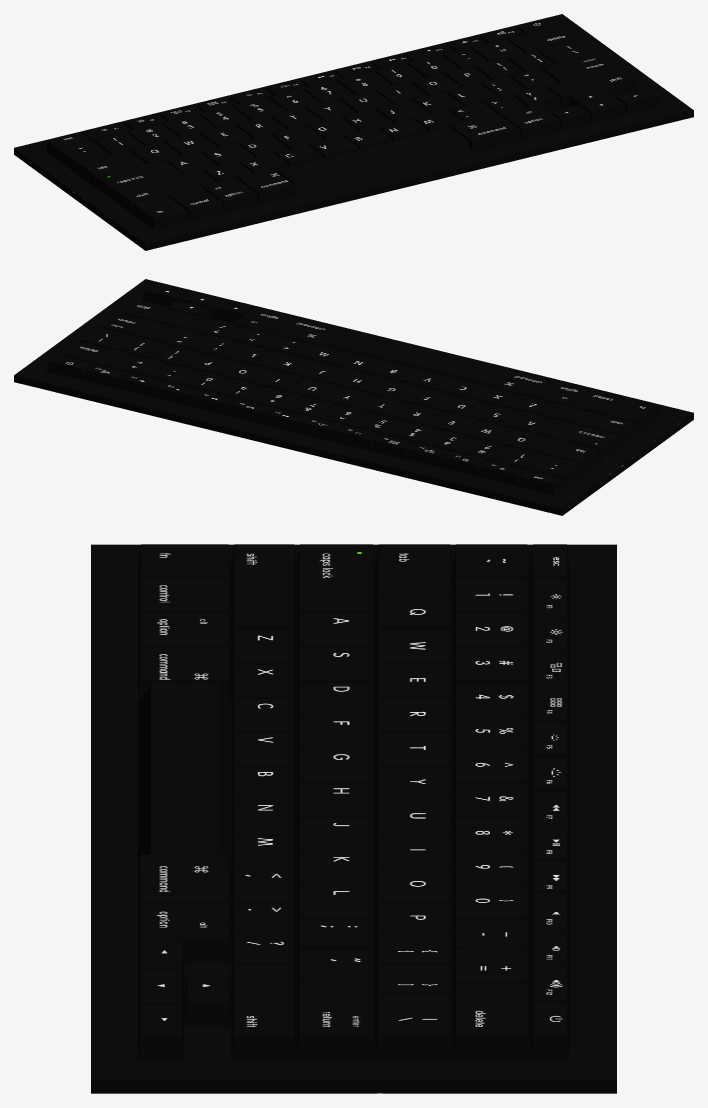
Rendered from office-keyboard.glb.
3 renders of one model, top to bottom at view 1: azimuth 30°, elevation 25°; view 2: azimuth 150°, elevation 25°; view 3: azimuth 270°, elevation 25°, orthographic. The views are drawn at different scales.
Visible parts, largest first — view 1: Keyboard1_Keyboard_0; view 2: Keyboard1_Keyboard_0; view 3: Keyboard1_Keyboard_0.
Boxes of the visible parts, left/top/right/bottom form: Keyboard1_Keyboard_0: left=14, top=14, right=693, bottom=250; Keyboard1_Keyboard_0: left=14, top=279, right=693, bottom=515; Keyboard1_Keyboard_0: left=91, top=544, right=616, bottom=1093.
Bounding box in the file's own units: 0.44 × 0.0134 × 0.1829.
1 material, 1 textured.
